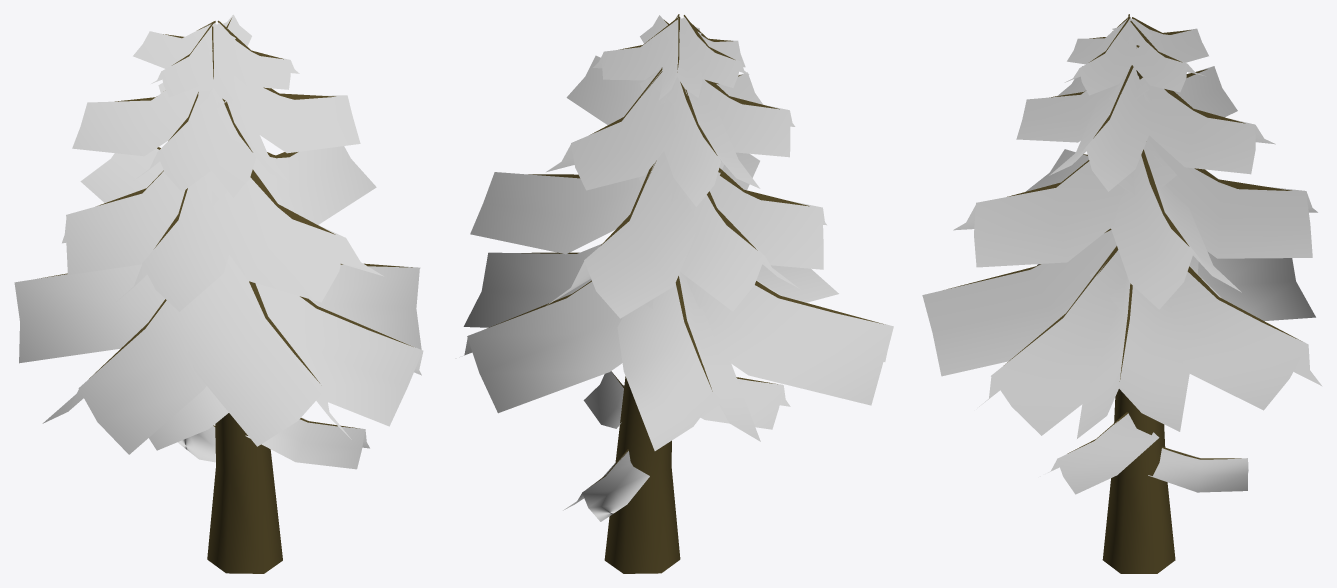
File: pine_Tree5.fbx
3 renders of one model, left to right at view 1: azimuth 30°, elevation 25°; view 2: azimuth 150°, elevation 25°; view 3: azimuth 270°, elevation 25°, orthographic. The views are drawn at different scales.
Visible parts, largest first — view 1: Cylinder.010, Cylinder.002; view 2: Cylinder.010, Cylinder.002; view 3: Cylinder.010, Cylinder.002.
Part boxes in pixels (x1,y1,x2,y2): Cylinder.010: [14, 14, 423, 469]; Cylinder.002: [207, 413, 282, 573]; Cylinder.010: [463, 14, 893, 521]; Cylinder.002: [604, 376, 680, 573]; Cylinder.010: [922, 14, 1322, 494]; Cylinder.002: [1102, 45, 1175, 573].
Bounding box in the file's own units: 1209 × 1671 × 1145.
